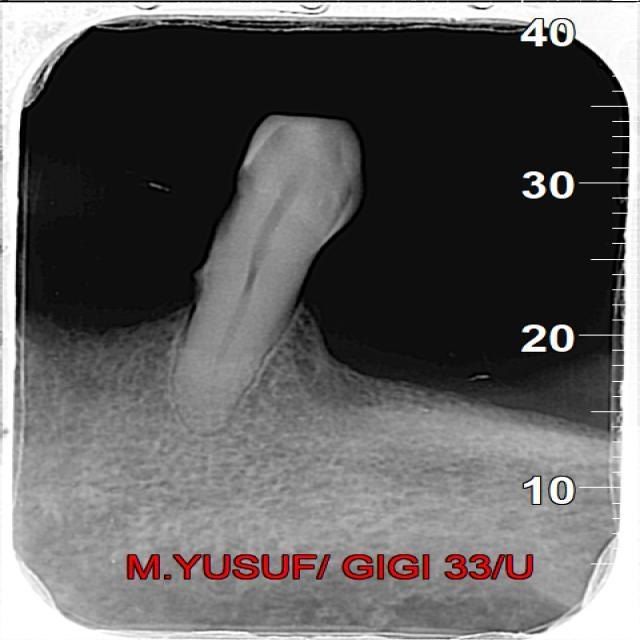individual-tooth-8tto: (167, 113, 364, 432)
